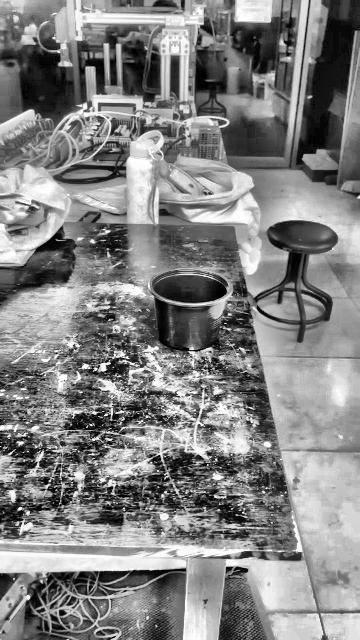pot: (149, 270, 229, 351)
